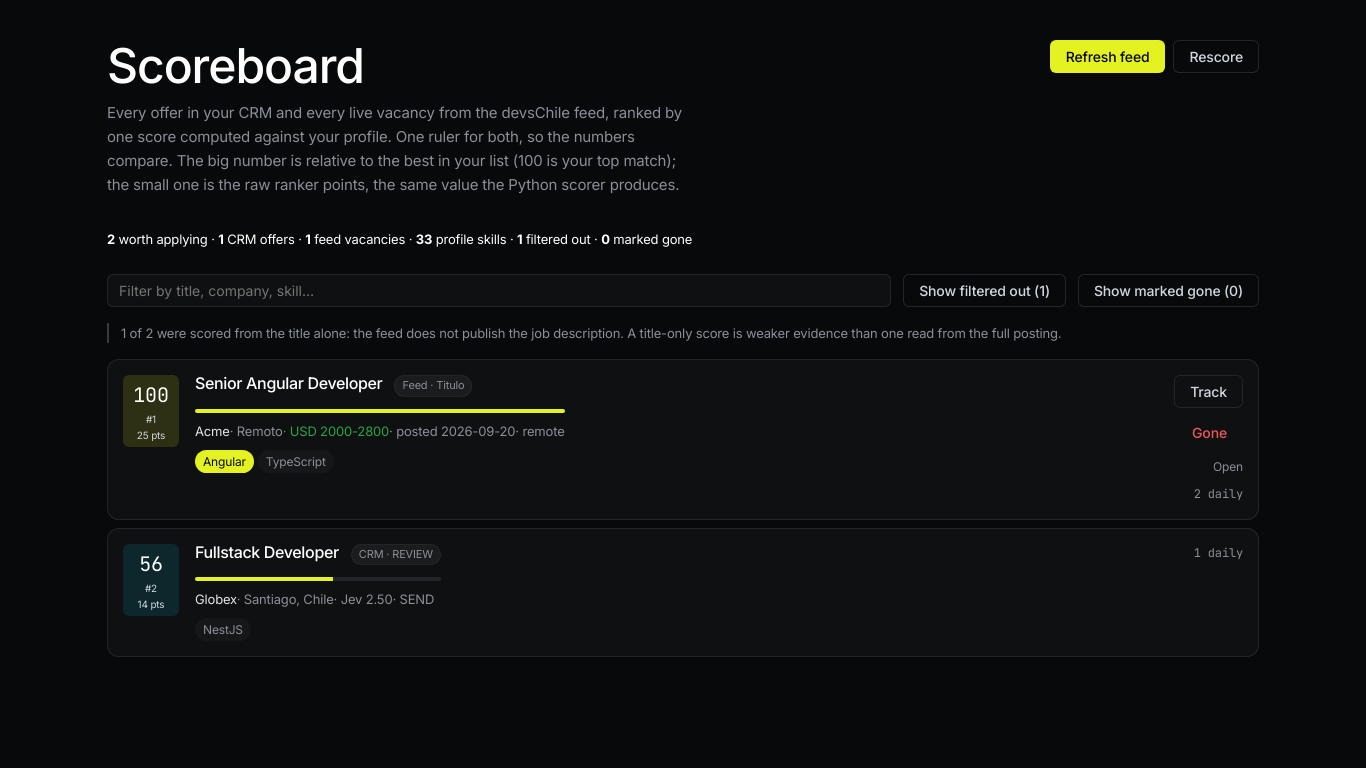
it: ScoreboardComponent › marks a posting as gone and says it can be brought back
This screenshot has width=1366, height=768.
Step 1. Click the button with class "btn-danger" → (1210, 433), box 1176,416 -> 1243,449
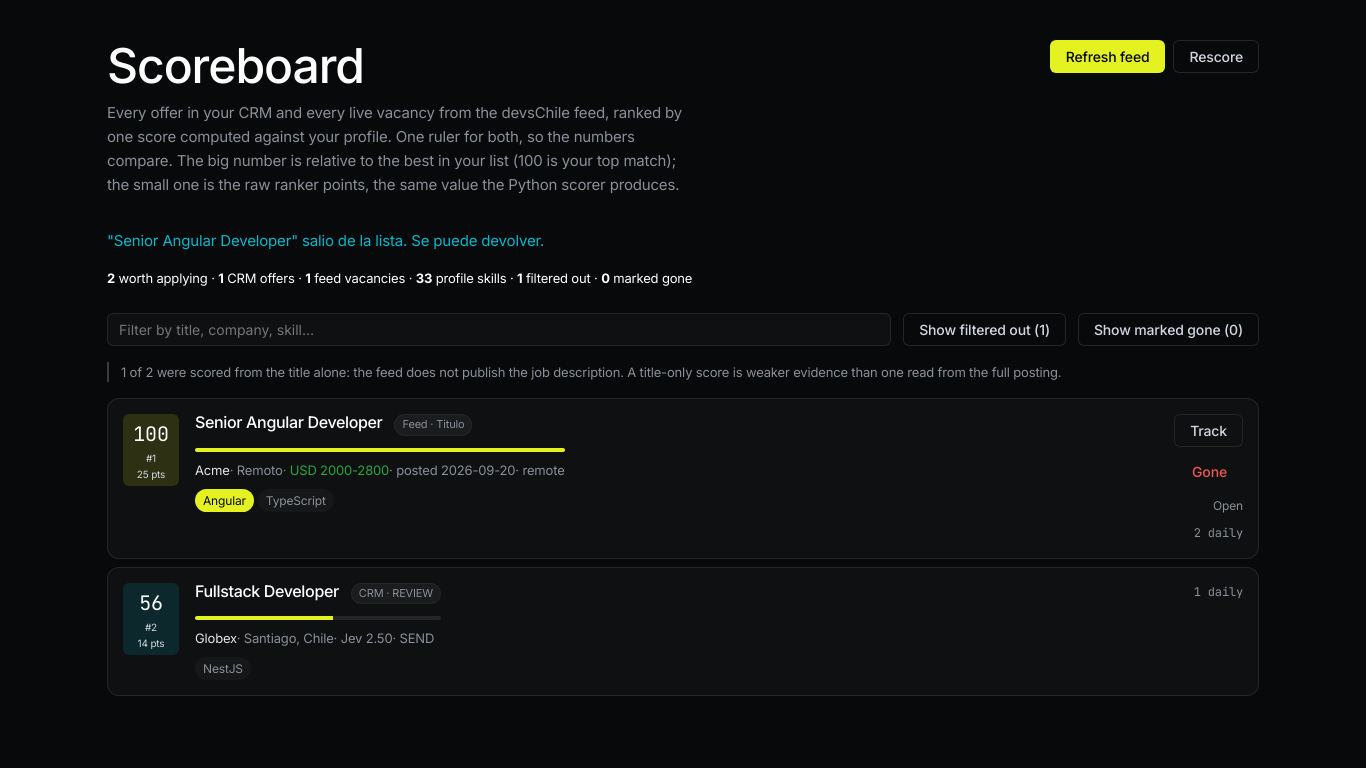
Now the text "salio de la lista" is shown, box 107,231 -> 544,250
